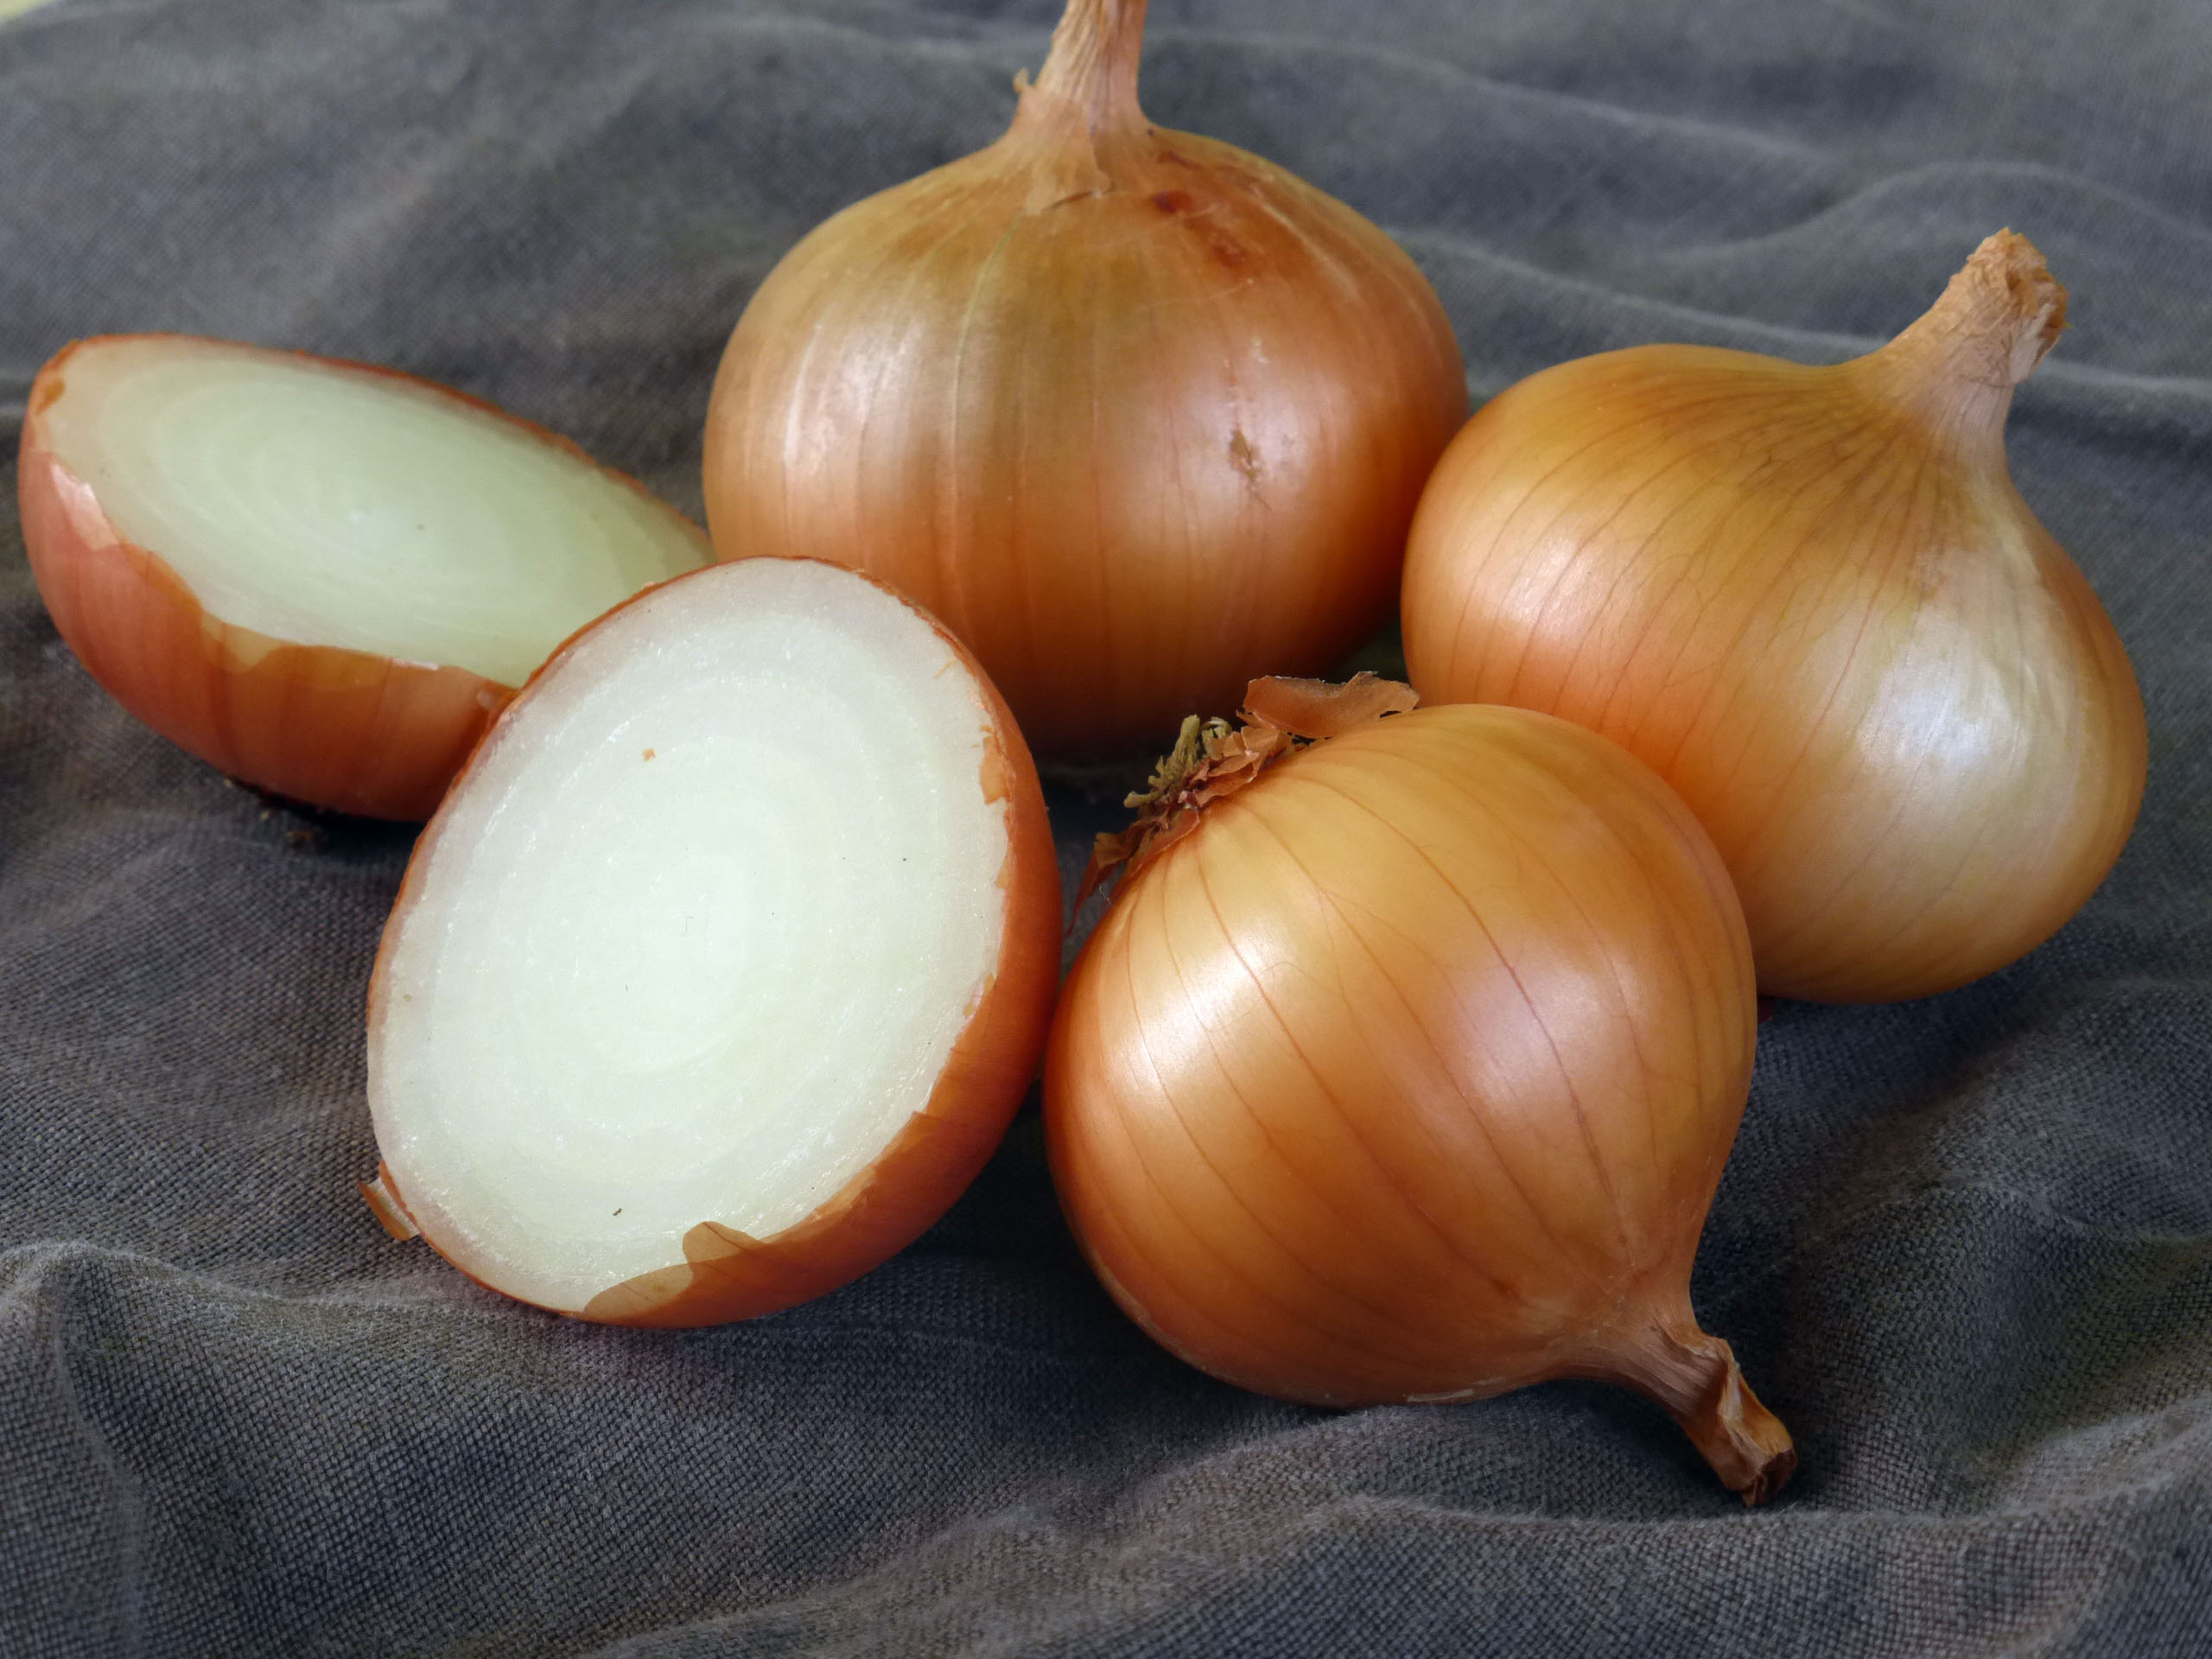Onion: (1035, 688, 1832, 1525), (707, 5, 1486, 856), (1399, 200, 2165, 1018)
